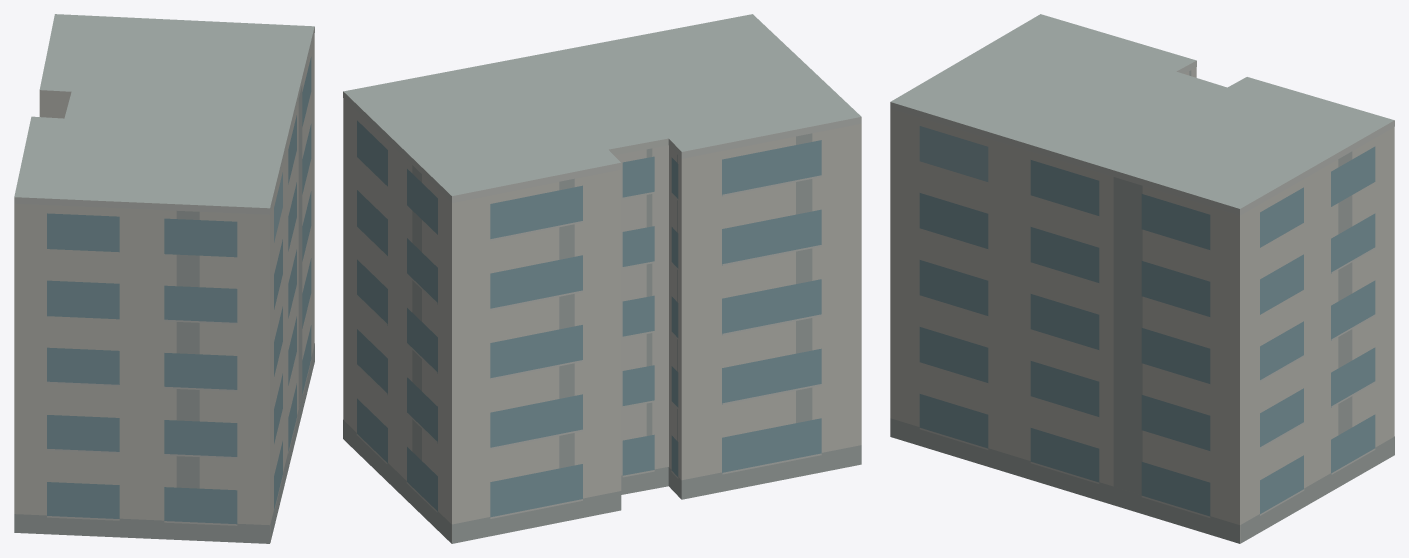
File: survey-upis-32790601.glb
3 renders of one model, left to right at view 1: azimuth 30°, elevation 25°; view 2: azimuth 150°, elevation 25°; view 3: azimuth 270°, elevation 25°, orthographic. The views are drawn at different scales.
Parts seen in each view (by area): view 1: survey-upis-32790601.tmp; view 2: survey-upis-32790601.tmp; view 3: survey-upis-32790601.tmp.
Part boxes in pixels (x1,y1,x2,y2): survey-upis-32790601.tmp: (14,14,314,543); survey-upis-32790601.tmp: (343,14,861,543); survey-upis-32790601.tmp: (890,14,1394,543).
Bounding box in the file's own units: 15.49 × 12.4 × 16.94.
